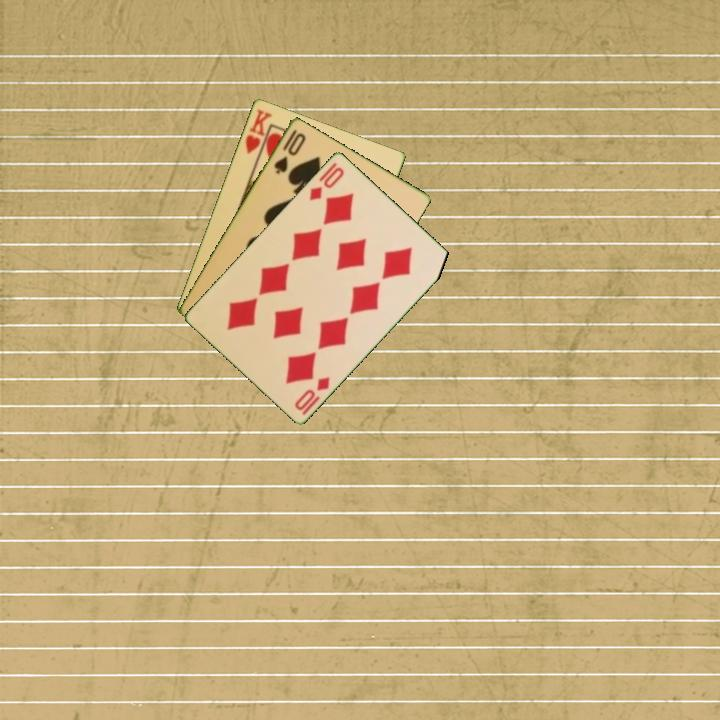10d: (291, 373, 333, 418), (306, 163, 347, 203)
10s: (270, 125, 309, 176)
Kh: (241, 105, 275, 163)
